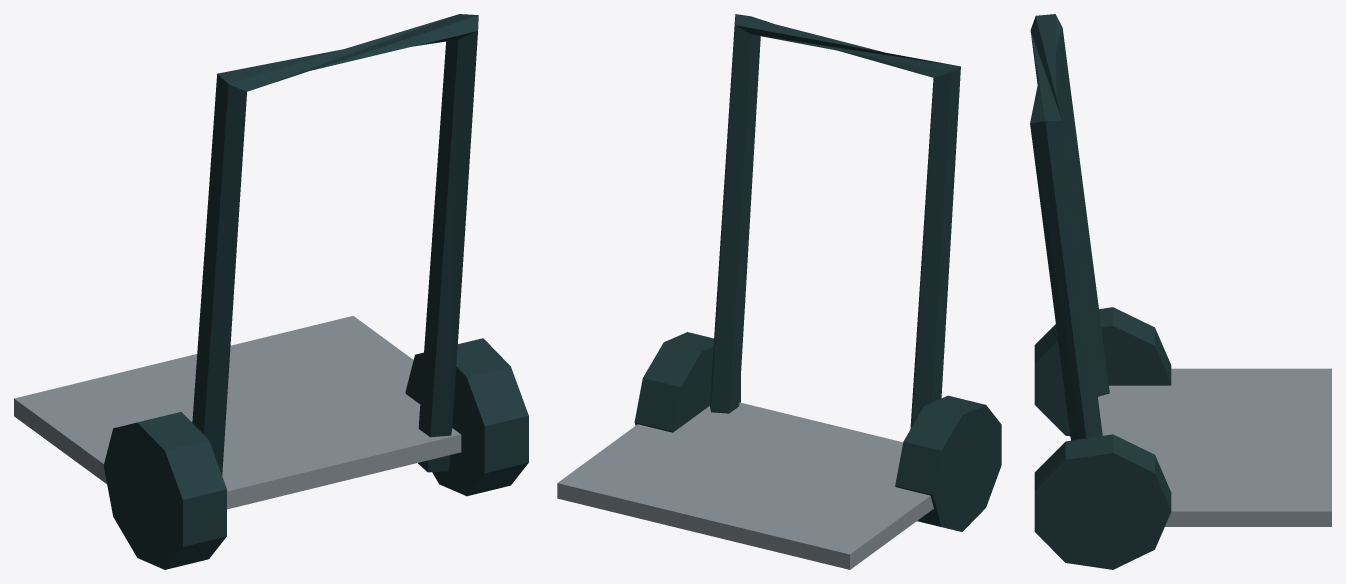
Rendered from hand_trolley.fbx.
3 renders of one model, left to right at view 1: azimuth 30°, elevation 25°; view 2: azimuth 150°, elevation 25°; view 3: azimuth 270°, elevation 25°, orthographic. The views are drawn at different scales.
Parts seen in each view (by area): view 1: hand_trolley; view 2: hand_trolley; view 3: hand_trolley.
Part boxes in pixels (<box>): hand_trolley: <box>14,14,528,569</box>; hand_trolley: <box>557,14,1001,569</box>; hand_trolley: <box>1030,14,1331,569</box>.
Size of the model in its own units: 0.8 by 1.1 by 0.7.
